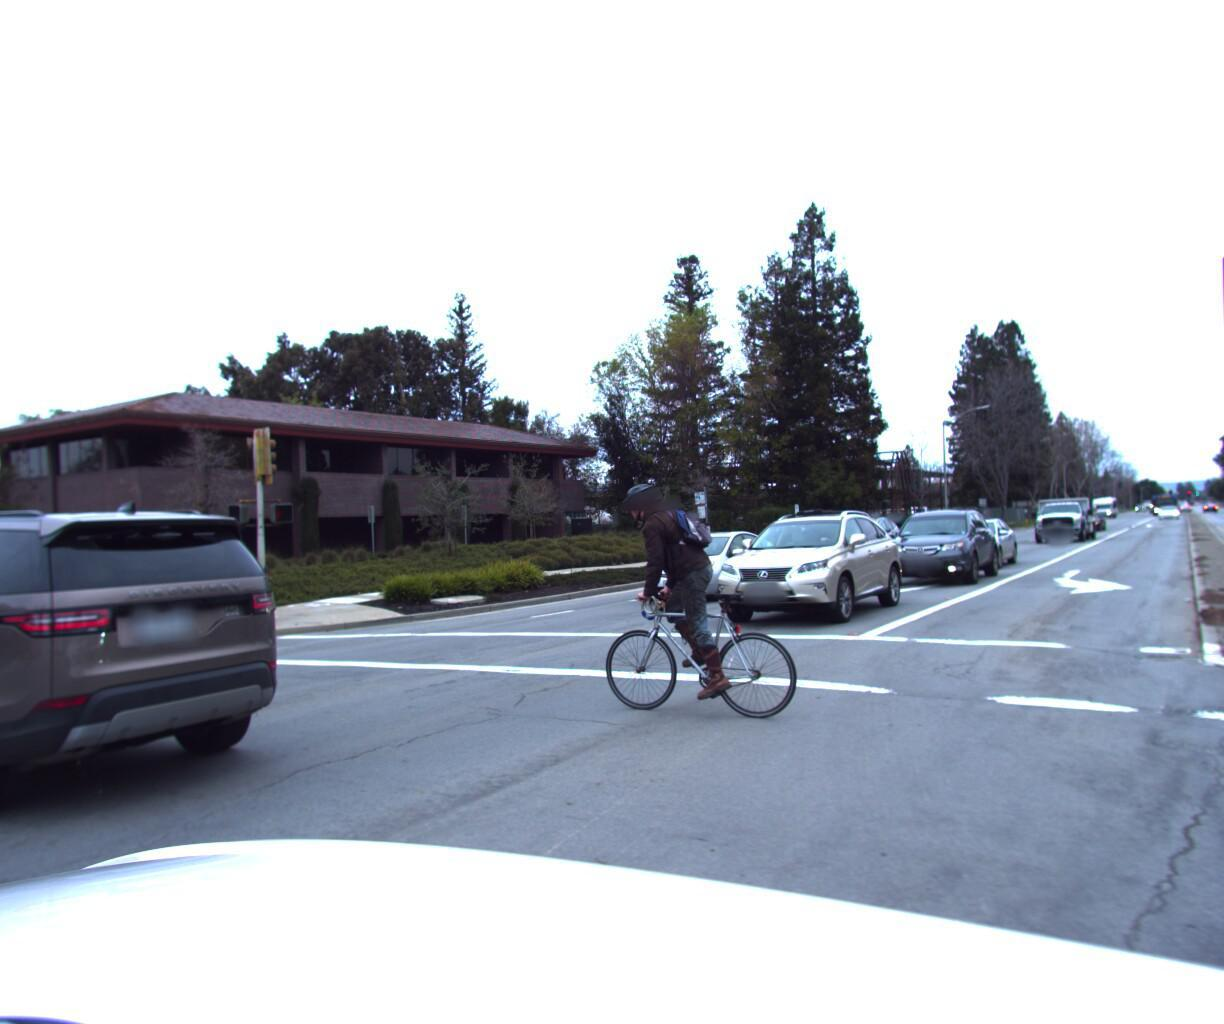bicycle: (555, 462, 827, 741)
car: (688, 502, 909, 633), (631, 524, 790, 604), (866, 502, 1002, 588), (924, 513, 1021, 567), (1026, 488, 1100, 538)
